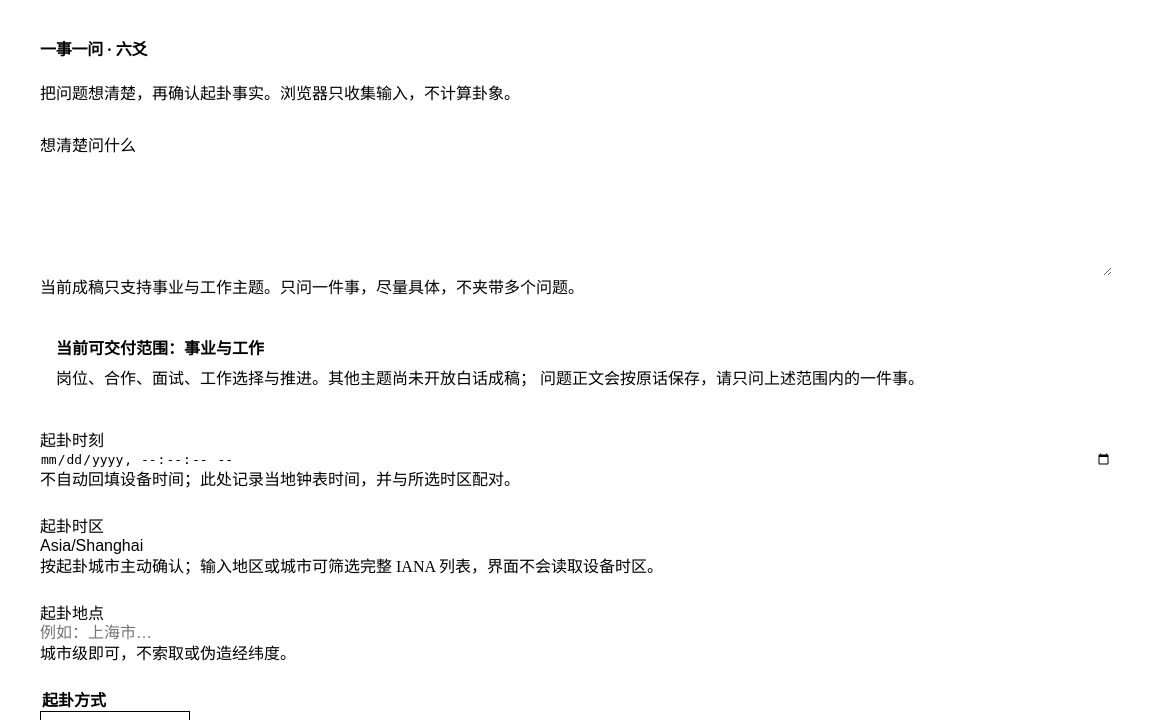
it: LiuyaoForm › enforces the stricter question length with an inline alert
Expected: the field labelled "起卦时刻" is shown, [40,451,1112,468]
Step 1. Type "太短" into the text box labelled "想清楚问什么" → coordinates (576, 216), box [40,156,1112,276]
(page scrolled)
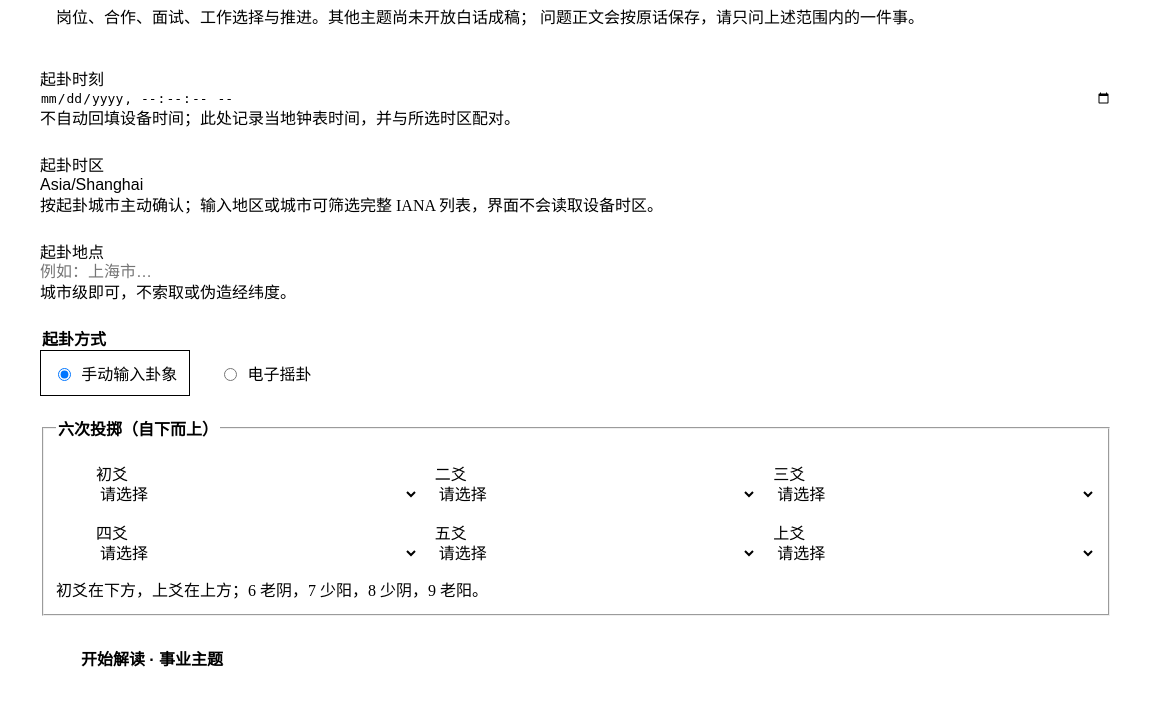
Step 2. Click the button "开始解读 · 事业主题" → coordinates (152, 658), box [40,636,264,680]
(page scrolled)
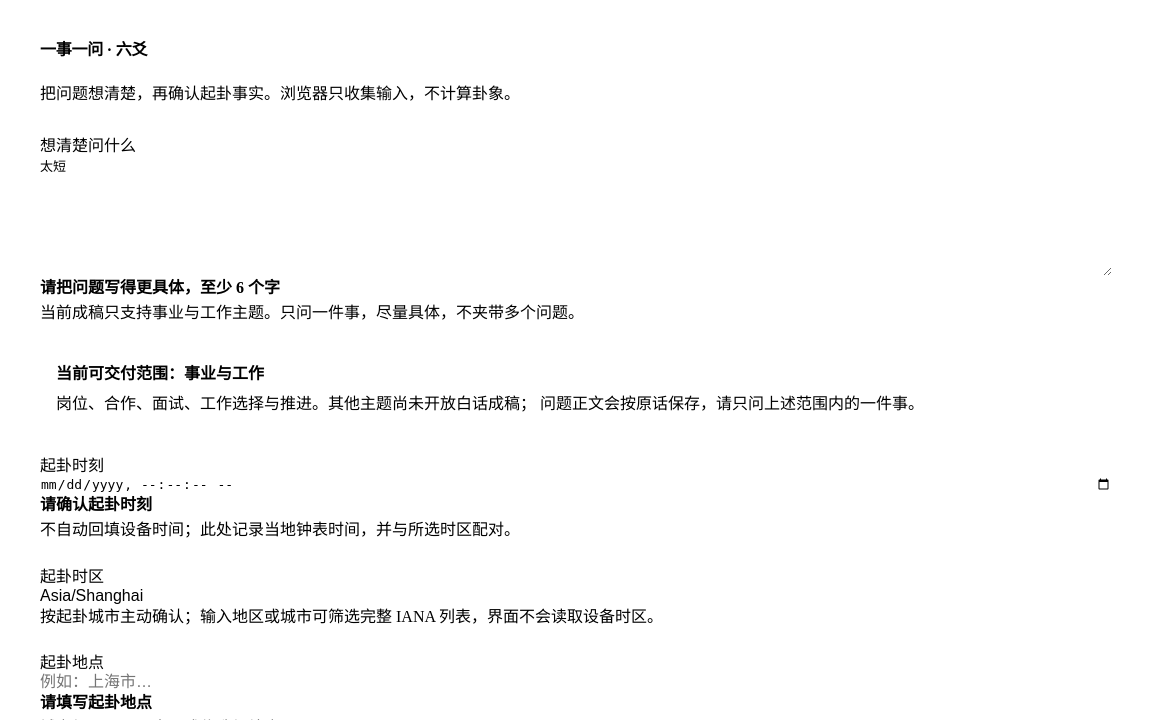
Expected: the text "请把问题写得更具体，至少 6 个字" is shown, [40,279,280,296]
